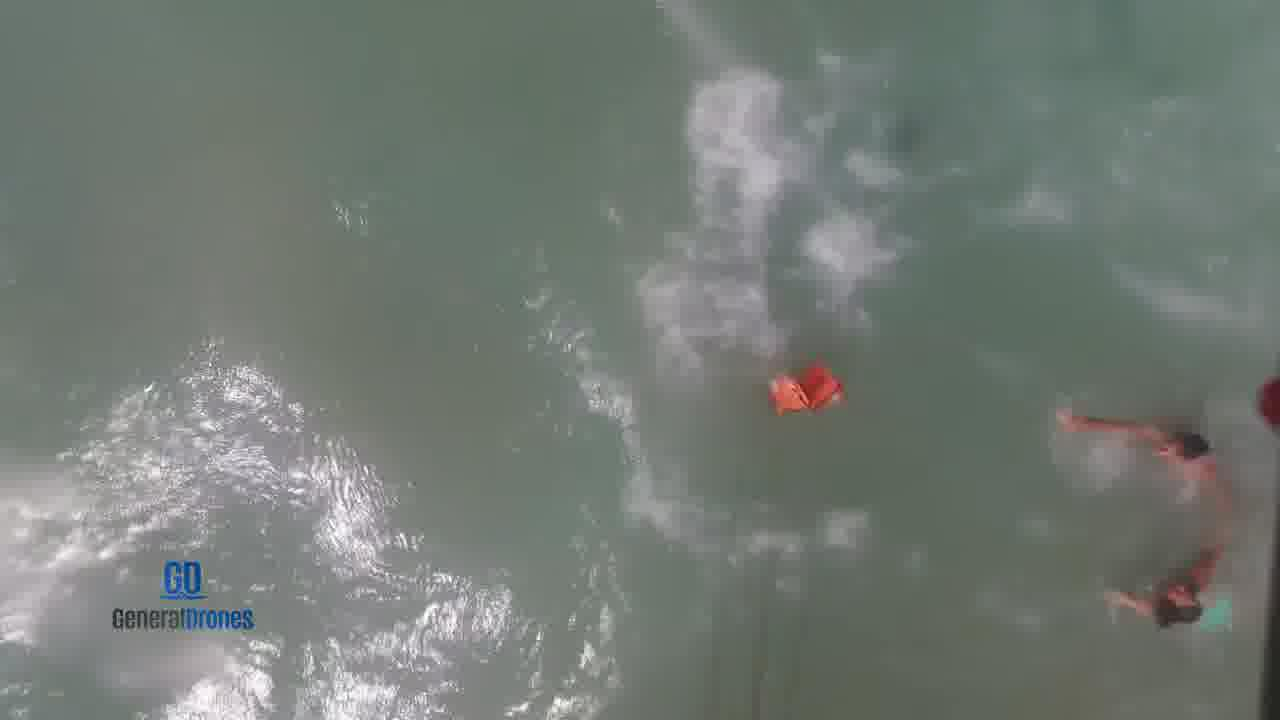human: (1056, 395, 1224, 482), (1097, 524, 1224, 636)
